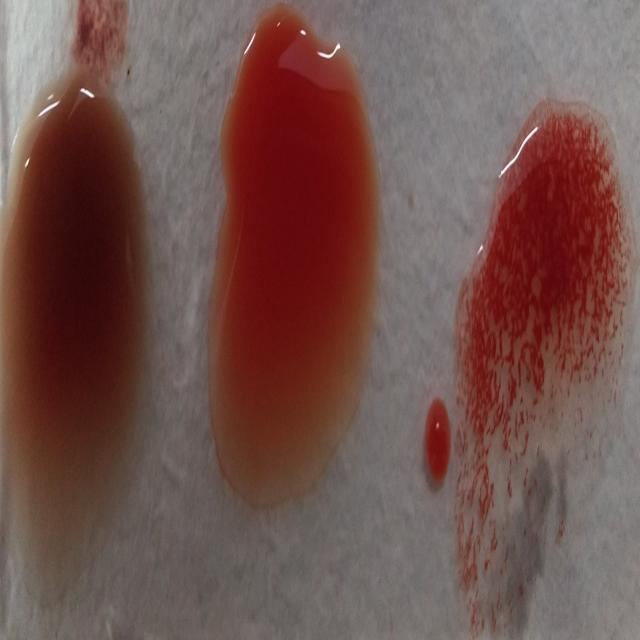D: (456, 103, 622, 610)
